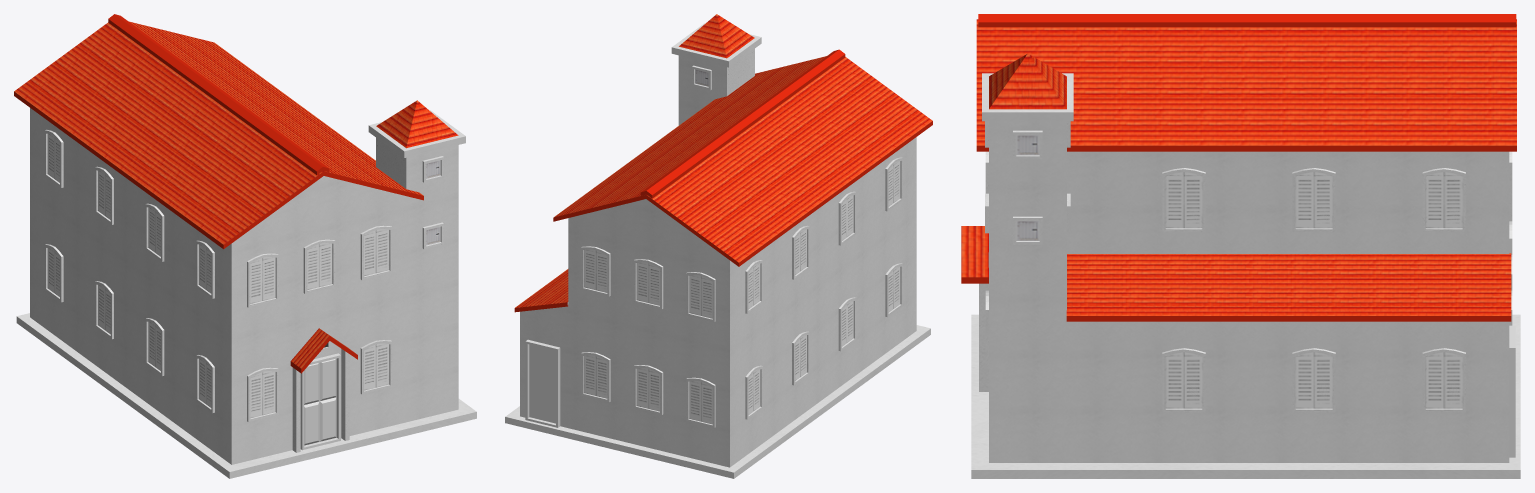
Rendered from House_Kaya.fbx.
3 renders of one model, left to right at view 1: azimuth 30°, elevation 25°; view 2: azimuth 150°, elevation 25°; view 3: azimuth 270°, elevation 25°, orthographic. The views are drawn at different scales.
Parts seen in each view (by area): view 1: Cube; view 2: Cube; view 3: Cube.
Boxes of the visible parts, x1=… form: Cube: x1=14, y1=14, x2=476, y2=478; Cube: x1=505, y1=14, x2=932, y2=478; Cube: x1=961, y1=14, x2=1520, y2=478.
Size of the model in its own units: 5.75 by 6.82 by 8.6.
